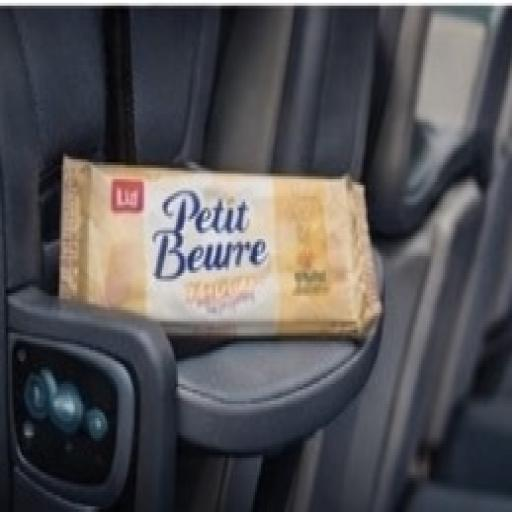petit_beurre: (22, 126, 421, 446)
